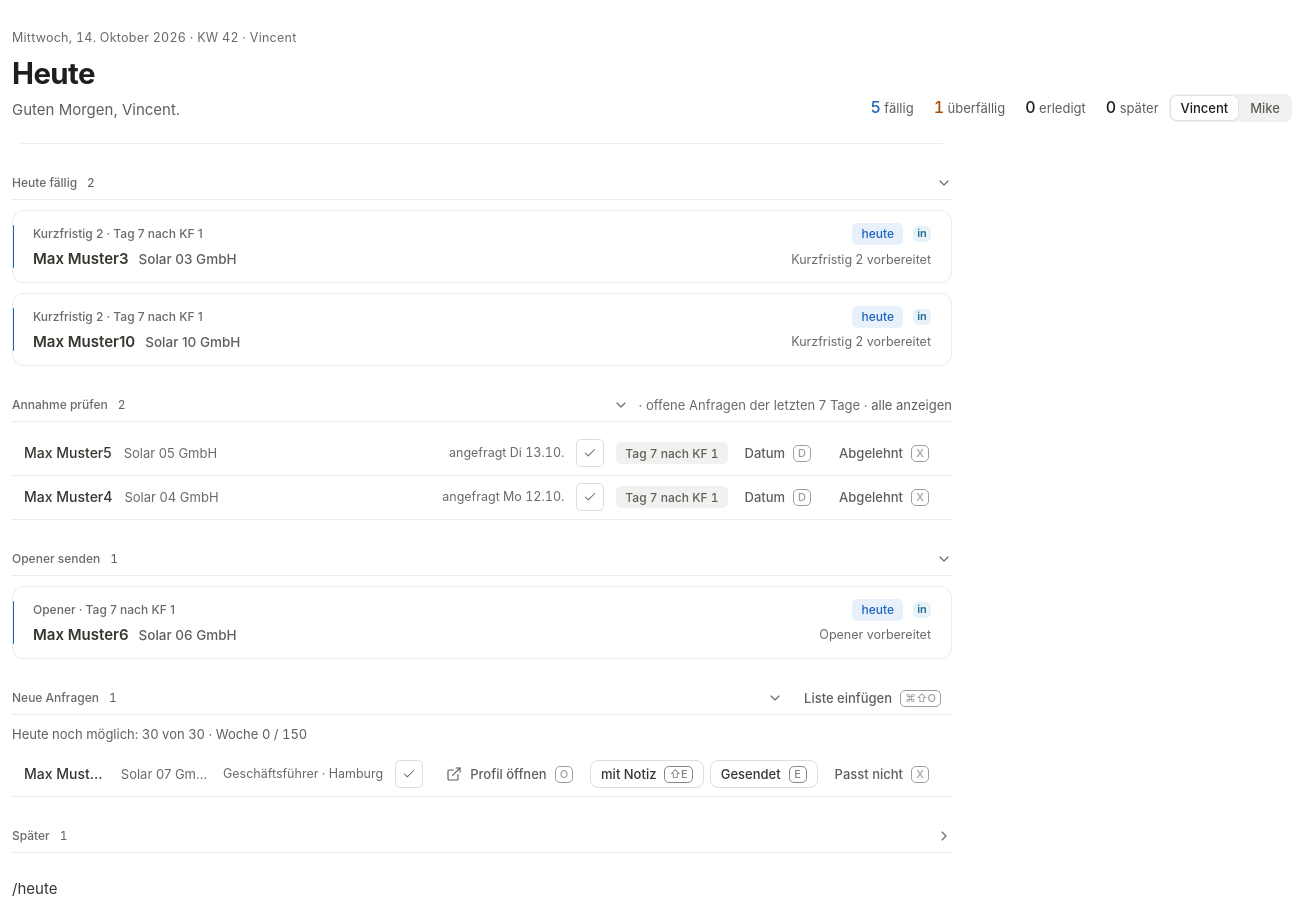
Test: HeuteSeite › H-13: Annahme prüfen – E setzt mark_accepted, die Zeile verschwindet, Erledigt +1
(page scrolled)
Click the text "Max Muster5".
click(68, 453)  # box [24,444,112,462]
(page scrolled)
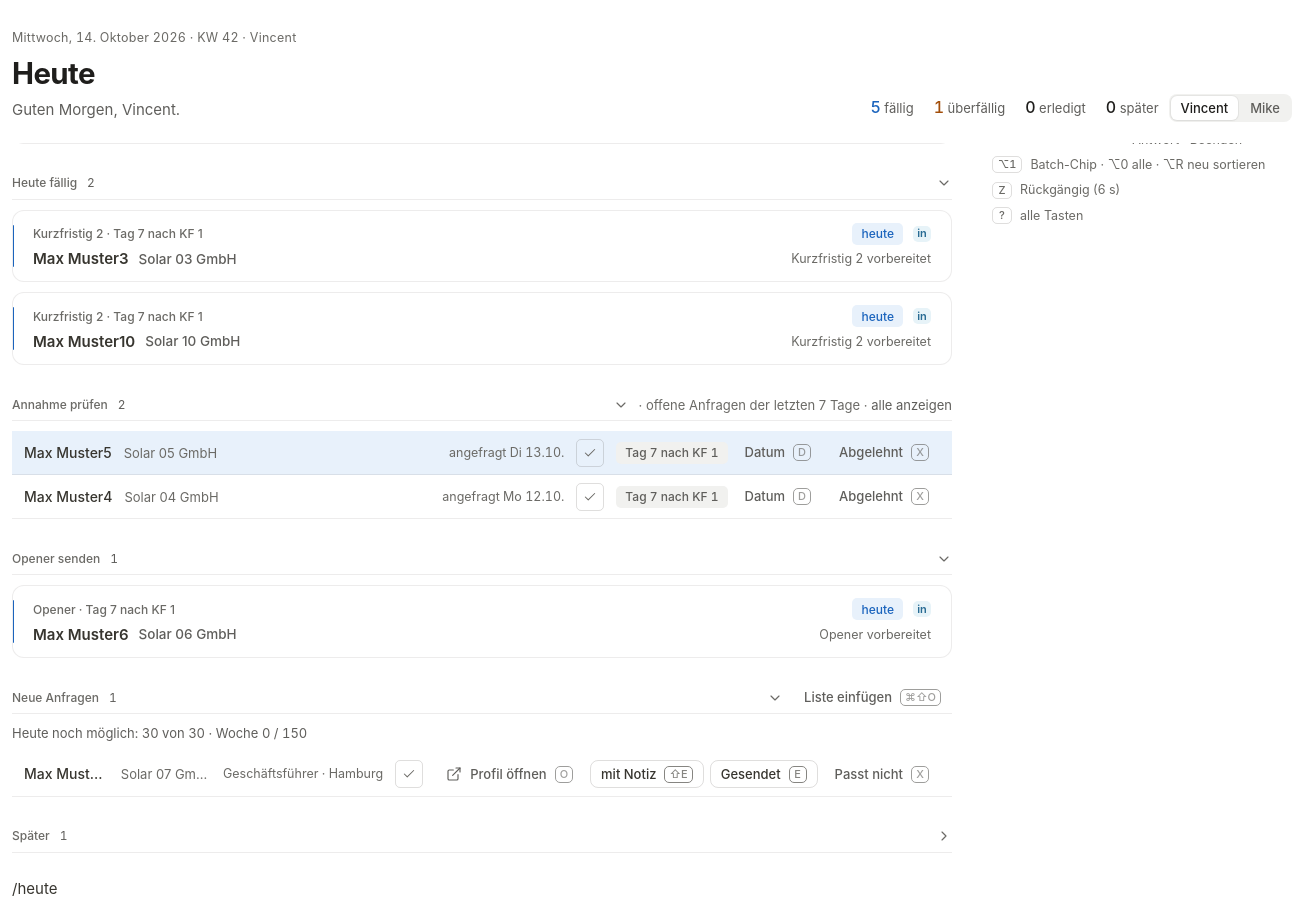
Press e
(page scrolled)
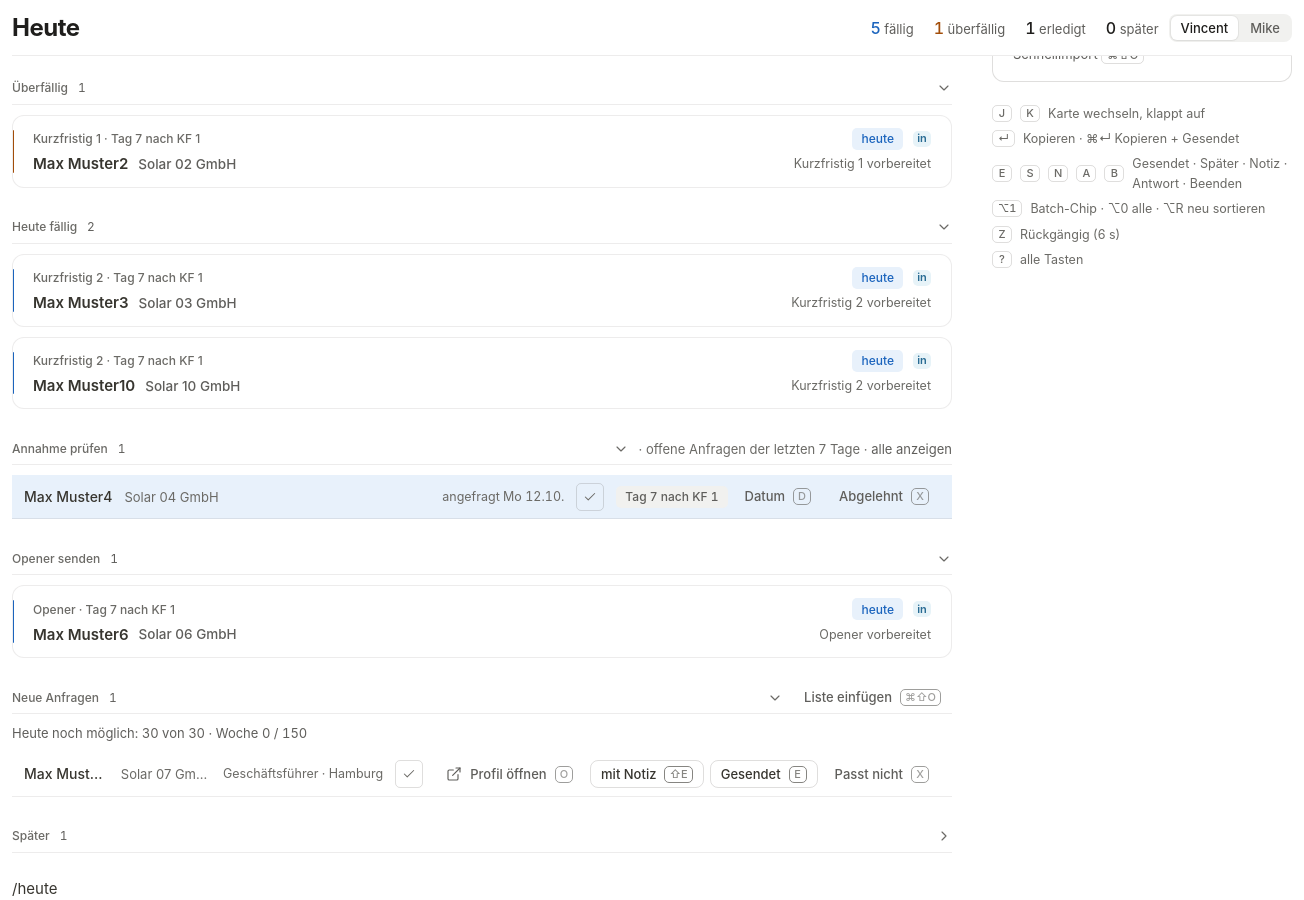
Expected: the text "Max Muster5" is gone
